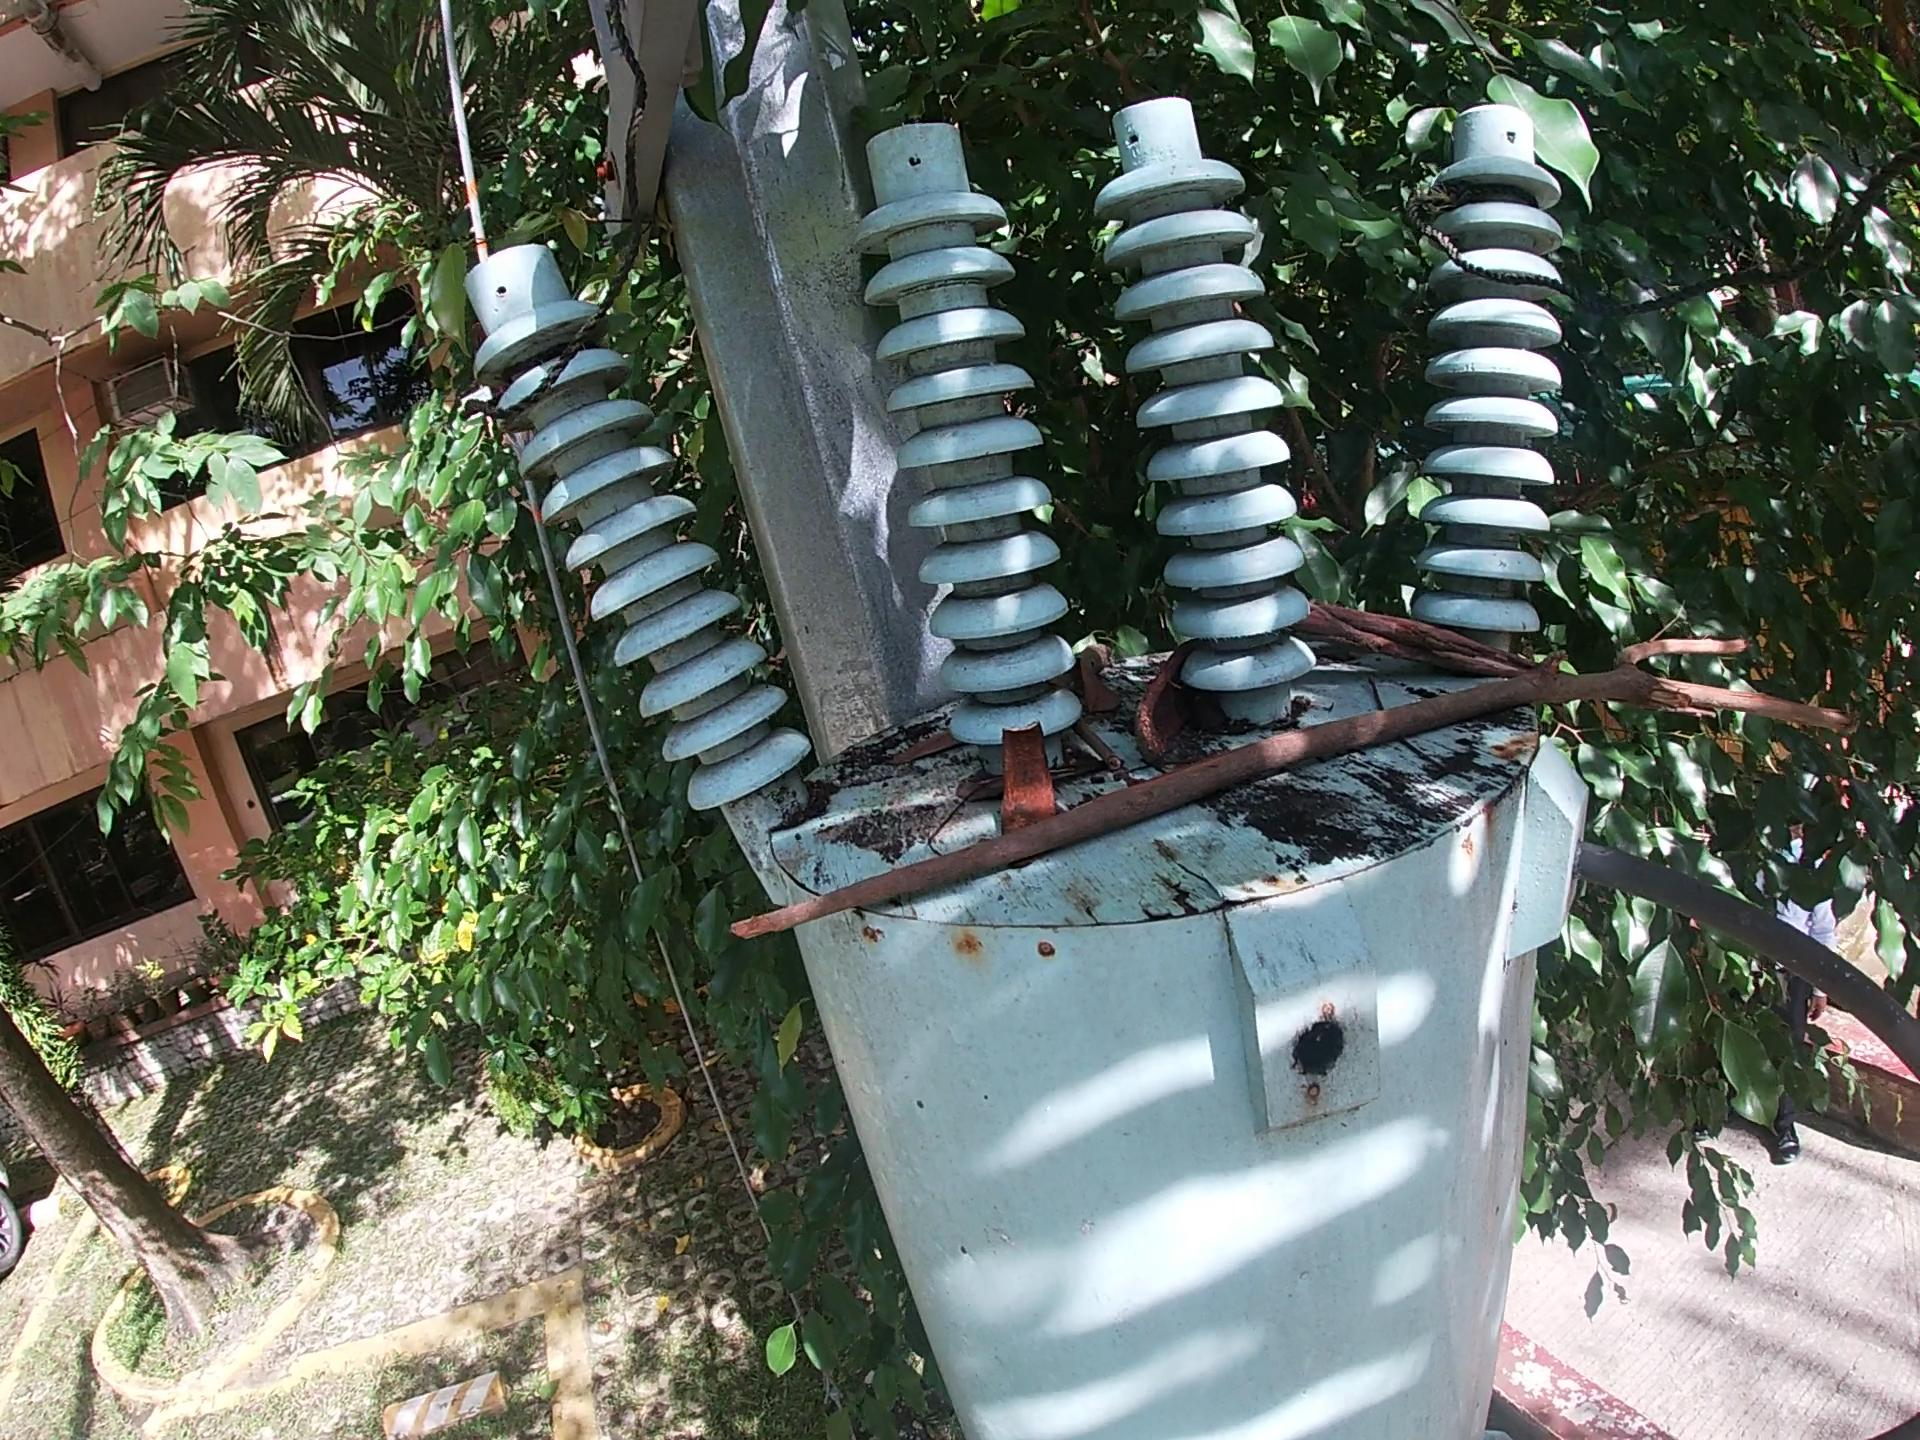leaf: (869, 728, 966, 776), (1075, 653, 1126, 715)
mahogany fruit: (1126, 637, 1206, 768), (995, 717, 1054, 843)
tree branch: (721, 632, 1872, 951), (1284, 599, 1702, 715)
